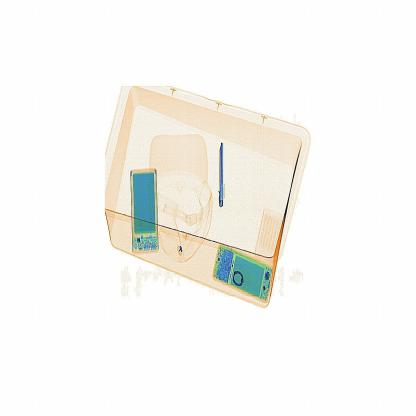pliers: (207, 132, 237, 224)
